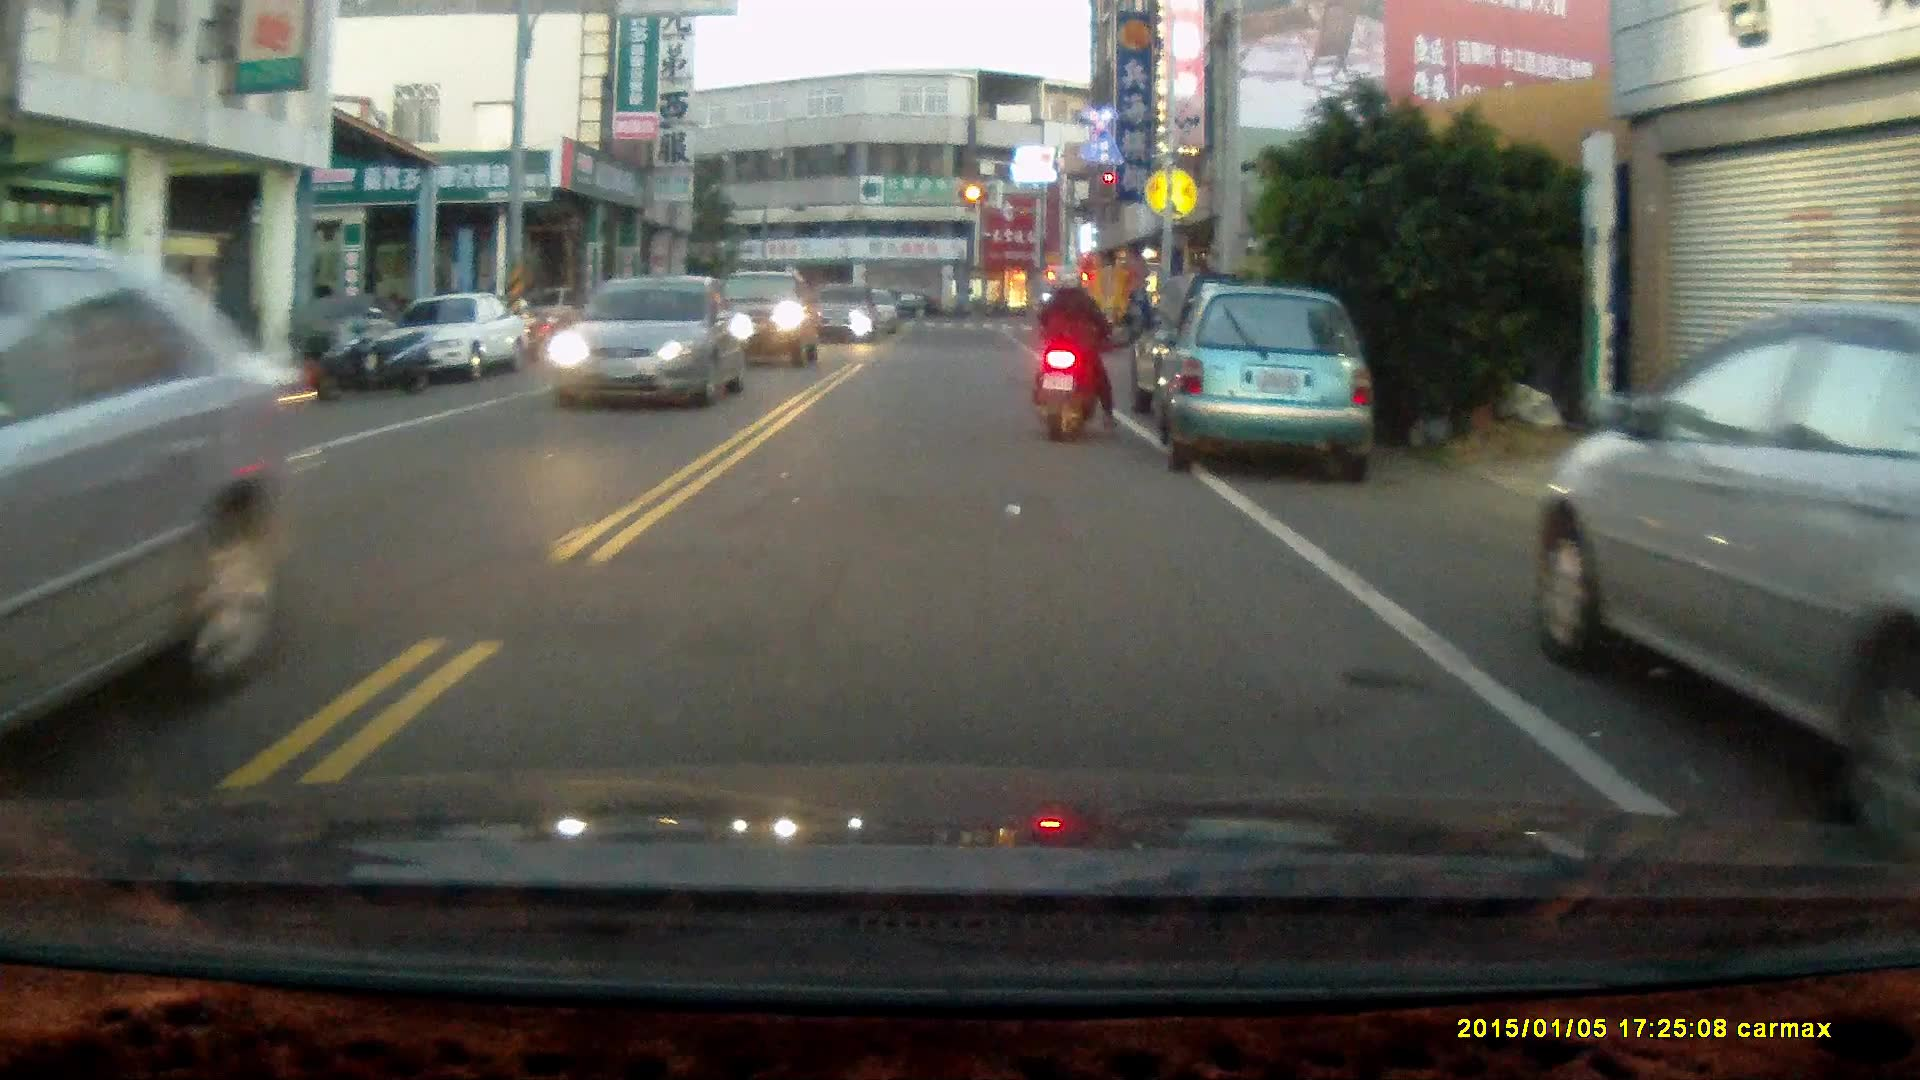rider: (1029, 266, 1119, 440)
vehicle: (1543, 314, 1920, 831), (1, 243, 308, 749), (1160, 280, 1380, 488), (553, 274, 747, 411), (384, 291, 532, 385), (699, 270, 828, 373)
